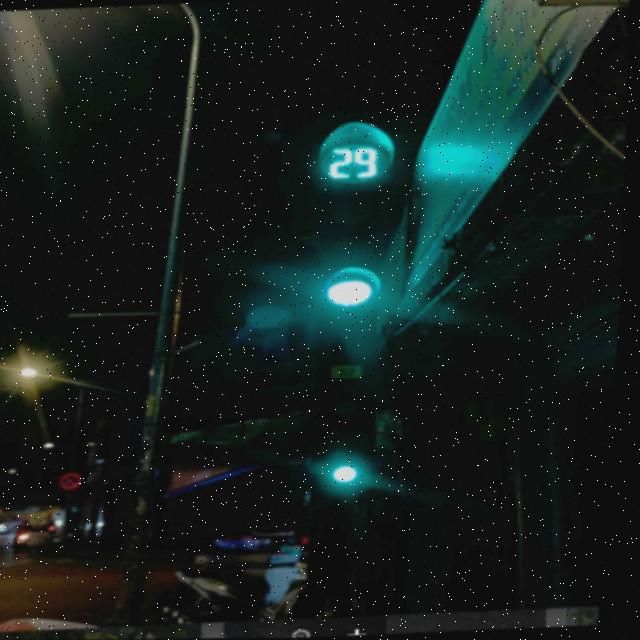Green: (308, 193, 394, 322), (312, 402, 391, 493)
